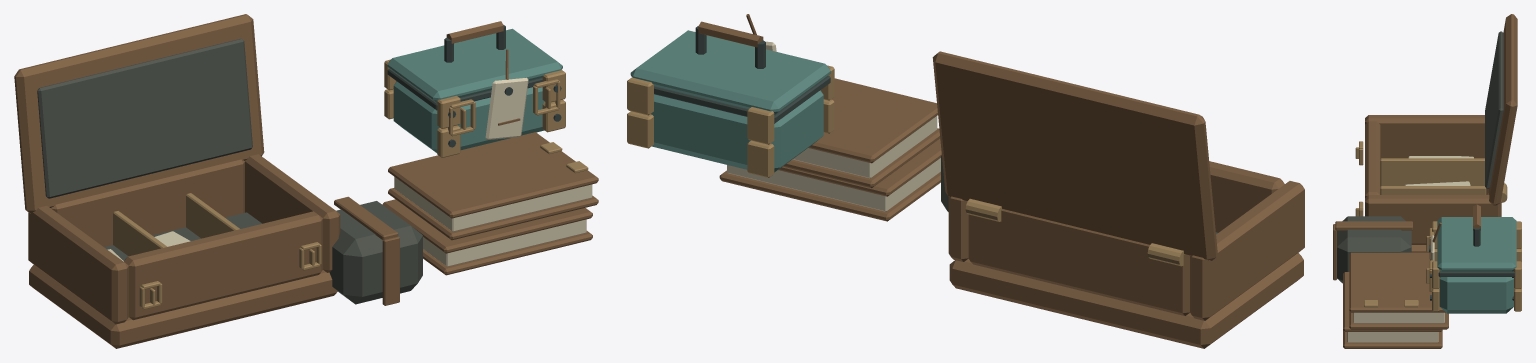
File: dan_consignment.glb
3 renders of one model, left to right at view 1: azimuth 30°, elevation 25°; view 2: azimuth 150°, elevation 25°; view 3: azimuth 270°, elevation 25°, orthographic. The views are drawn at different scales.
Parts seen in each view (by area): view 1: dan_consignment_Warm_Brown_Leather, dan_consignment_Charcoal_Canvas, dan_consignment_Weathered_Teal_Paint, dan_consignment_Aged_Bronze_Hardware, dan_consignment_Ivory_Tag_Paper, dan_consignment_Dark_Locker_Metal; view 2: dan_consignment_Warm_Brown_Leather, dan_consignment_Weathered_Teal_Paint, dan_consignment_Aged_Bronze_Hardware, dan_consignment_Ivory_Tag_Paper, dan_consignment_Dark_Locker_Metal; view 3: dan_consignment_Warm_Brown_Leather, dan_consignment_Weathered_Teal_Paint, dan_consignment_Aged_Bronze_Hardware, dan_consignment_Charcoal_Canvas, dan_consignment_Ivory_Tag_Paper, dan_consignment_Dark_Locker_Metal.
Boxes of the visible parts, x1=… form: dan_consignment_Warm_Brown_Leather: x1=14, y1=14, x2=598, y2=348; dan_consignment_Charcoal_Canvas: x1=37, y1=38, x2=422, y2=304; dan_consignment_Weathered_Teal_Paint: x1=387, y1=28, x2=562, y2=153; dan_consignment_Aged_Bronze_Hardware: x1=113, y1=59, x2=588, y2=309; dan_consignment_Ivory_Tag_Paper: x1=107, y1=77, x2=592, y2=266; dan_consignment_Dark_Locker_Metal: x1=387, y1=25, x2=561, y2=147; dan_consignment_Warm_Brown_Leather: x1=698, y1=14, x2=1304, y2=348; dan_consignment_Weathered_Teal_Paint: x1=630, y1=30, x2=830, y2=172; dan_consignment_Aged_Bronze_Hardware: x1=627, y1=65, x2=1183, y2=266; dan_consignment_Ivory_Tag_Paper: x1=727, y1=41, x2=940, y2=211; dan_consignment_Dark_Locker_Metal: x1=654, y1=26, x2=830, y2=123; dan_consignment_Warm_Brown_Leather: x1=1333, y1=14, x2=1517, y2=348; dan_consignment_Weathered_Teal_Paint: x1=1437, y1=217, x2=1516, y2=313; dan_consignment_Aged_Bronze_Hardware: x1=1355, y1=141, x2=1521, y2=311; dan_consignment_Charcoal_Canvas: x1=1337, y1=31, x2=1503, y2=283; dan_consignment_Ivory_Tag_Paper: x1=1347, y1=156, x2=1473, y2=342; dan_consignment_Dark_Locker_Metal: x1=1429, y1=228, x2=1514, y2=300.
Size of the model in its own units: 1.45 by 0.5883 by 0.6065.
